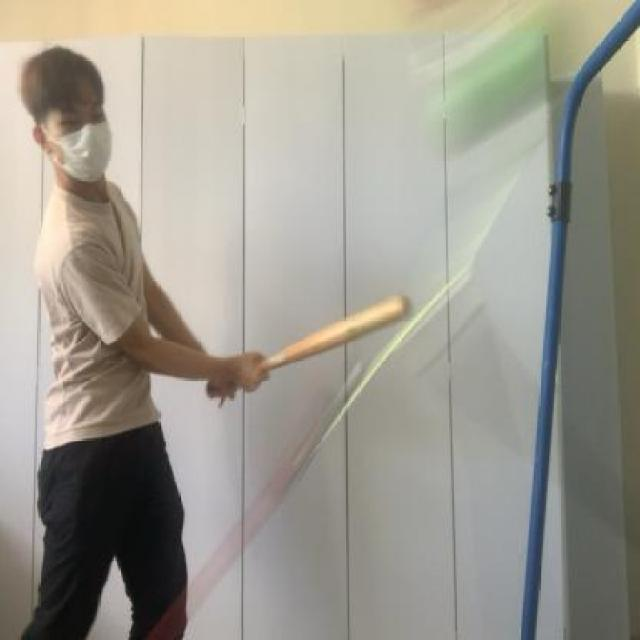baseball: (416, 26, 572, 145)
